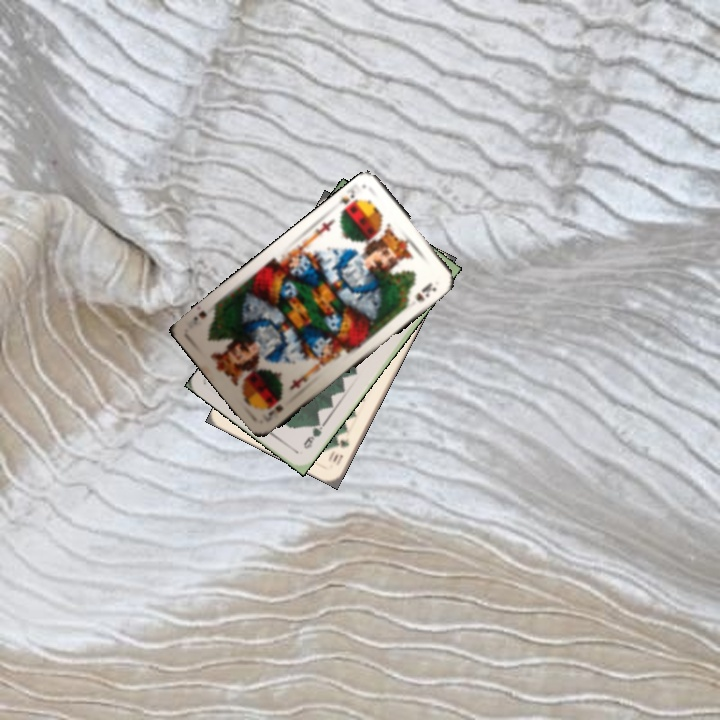G10: (328, 434, 352, 469)
G9: (299, 417, 327, 452)
SK: (334, 185, 363, 217), (259, 400, 286, 421)
